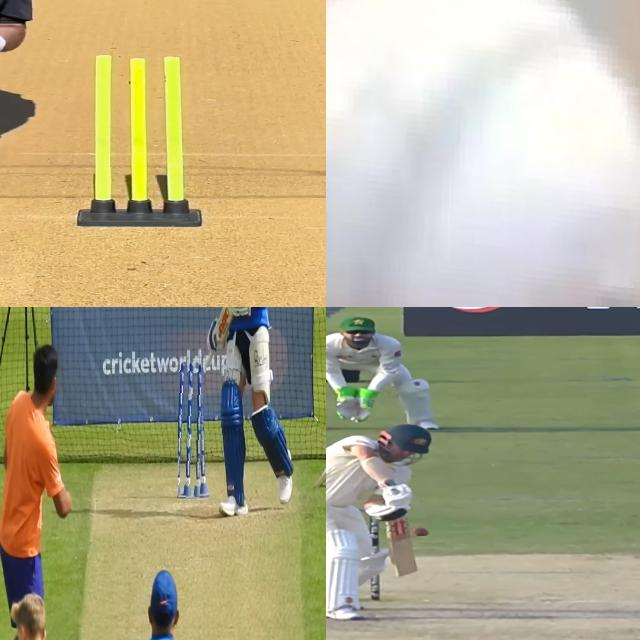Cricket ball: (326, 0, 640, 307), (411, 526, 430, 536)
Stumps: (178, 358, 206, 498)
